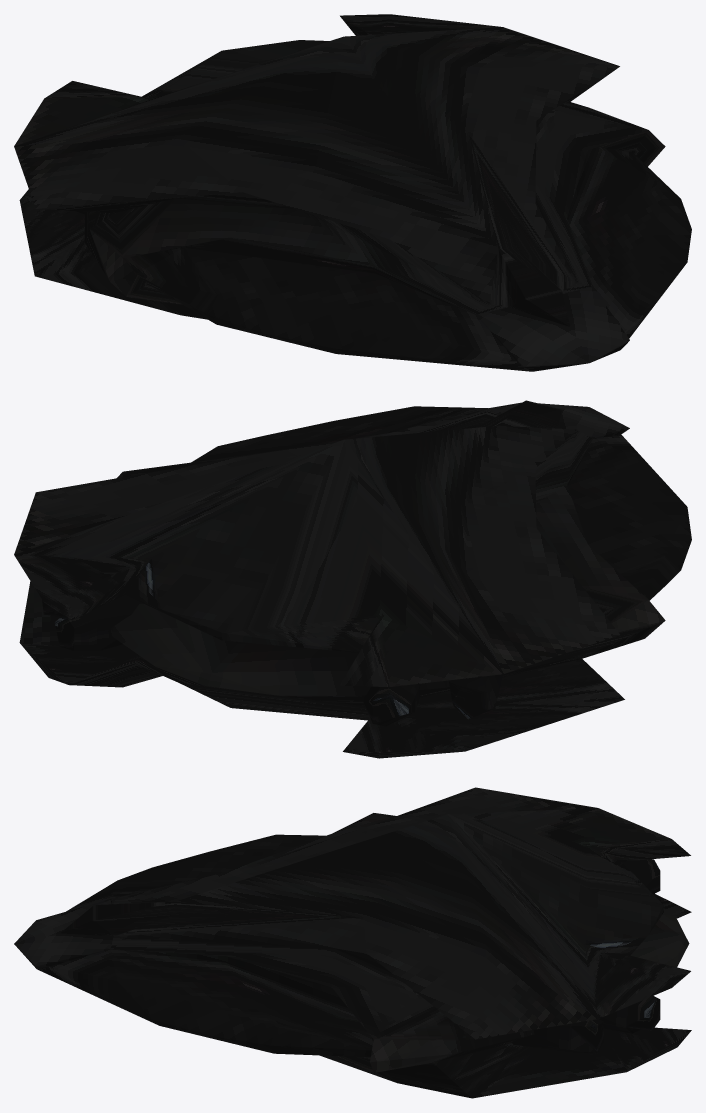
3 renders of one model, top to bottom at view 1: azimuth 30°, elevation 25°; view 2: azimuth 150°, elevation 25°; view 3: azimuth 270°, elevation 25°, orthographic. The views are drawn at different scales.
Visible parts, largest first — view 1: Object_2; view 2: Object_2; view 3: Object_2.
Boxes of the visible parts, x1=… form: Object_2: x1=14, y1=14, x2=691, y2=371; Object_2: x1=14, y1=400, x2=691, y2=758; Object_2: x1=14, y1=787, x2=691, y2=1098.
Bounding box in the file's own units: 24.06 × 9.36 × 27.07.
Materials: 1 (1 with a texture image).
